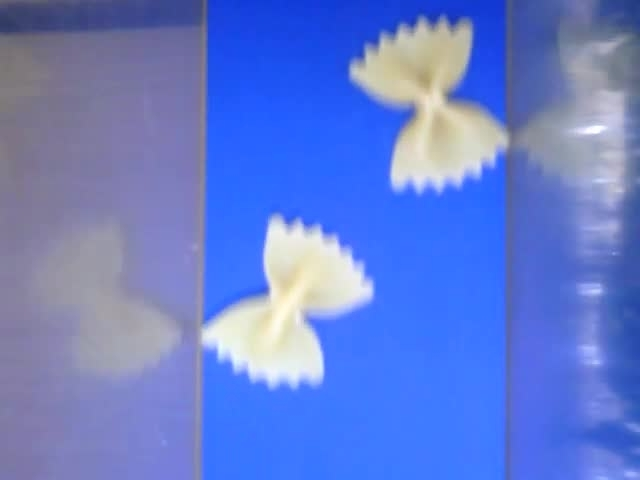farfalle: (200, 214, 376, 389), (347, 16, 509, 194)
